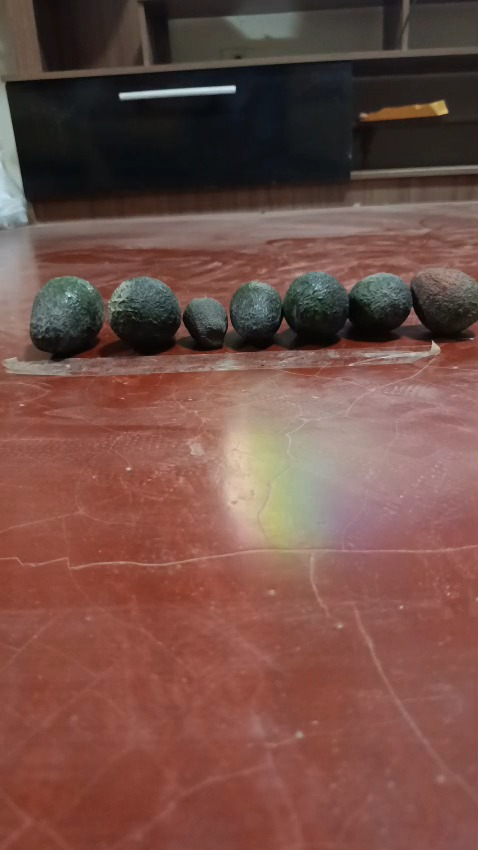Primera: (30, 275, 106, 355), (106, 275, 182, 349), (282, 271, 350, 340)
Segunda: (409, 268, 476, 338), (346, 272, 412, 338), (228, 279, 283, 344)
Tercera: (182, 297, 227, 349)
